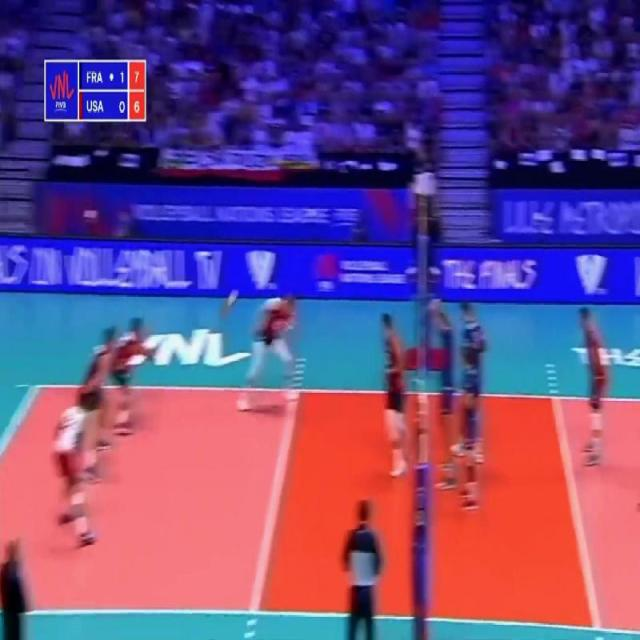volleyball: (227, 294, 237, 308)
